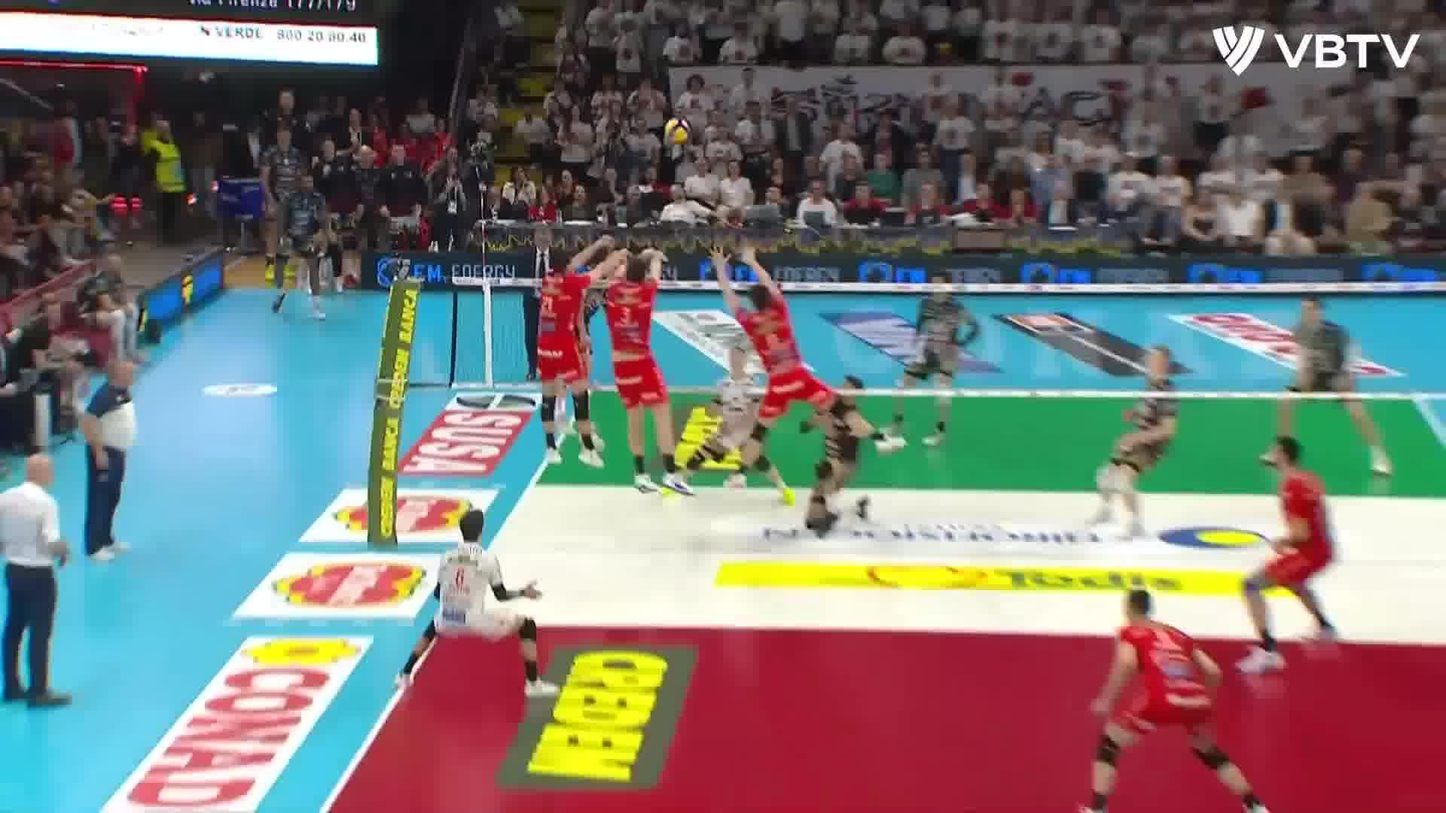balls: (663, 116, 692, 148)
